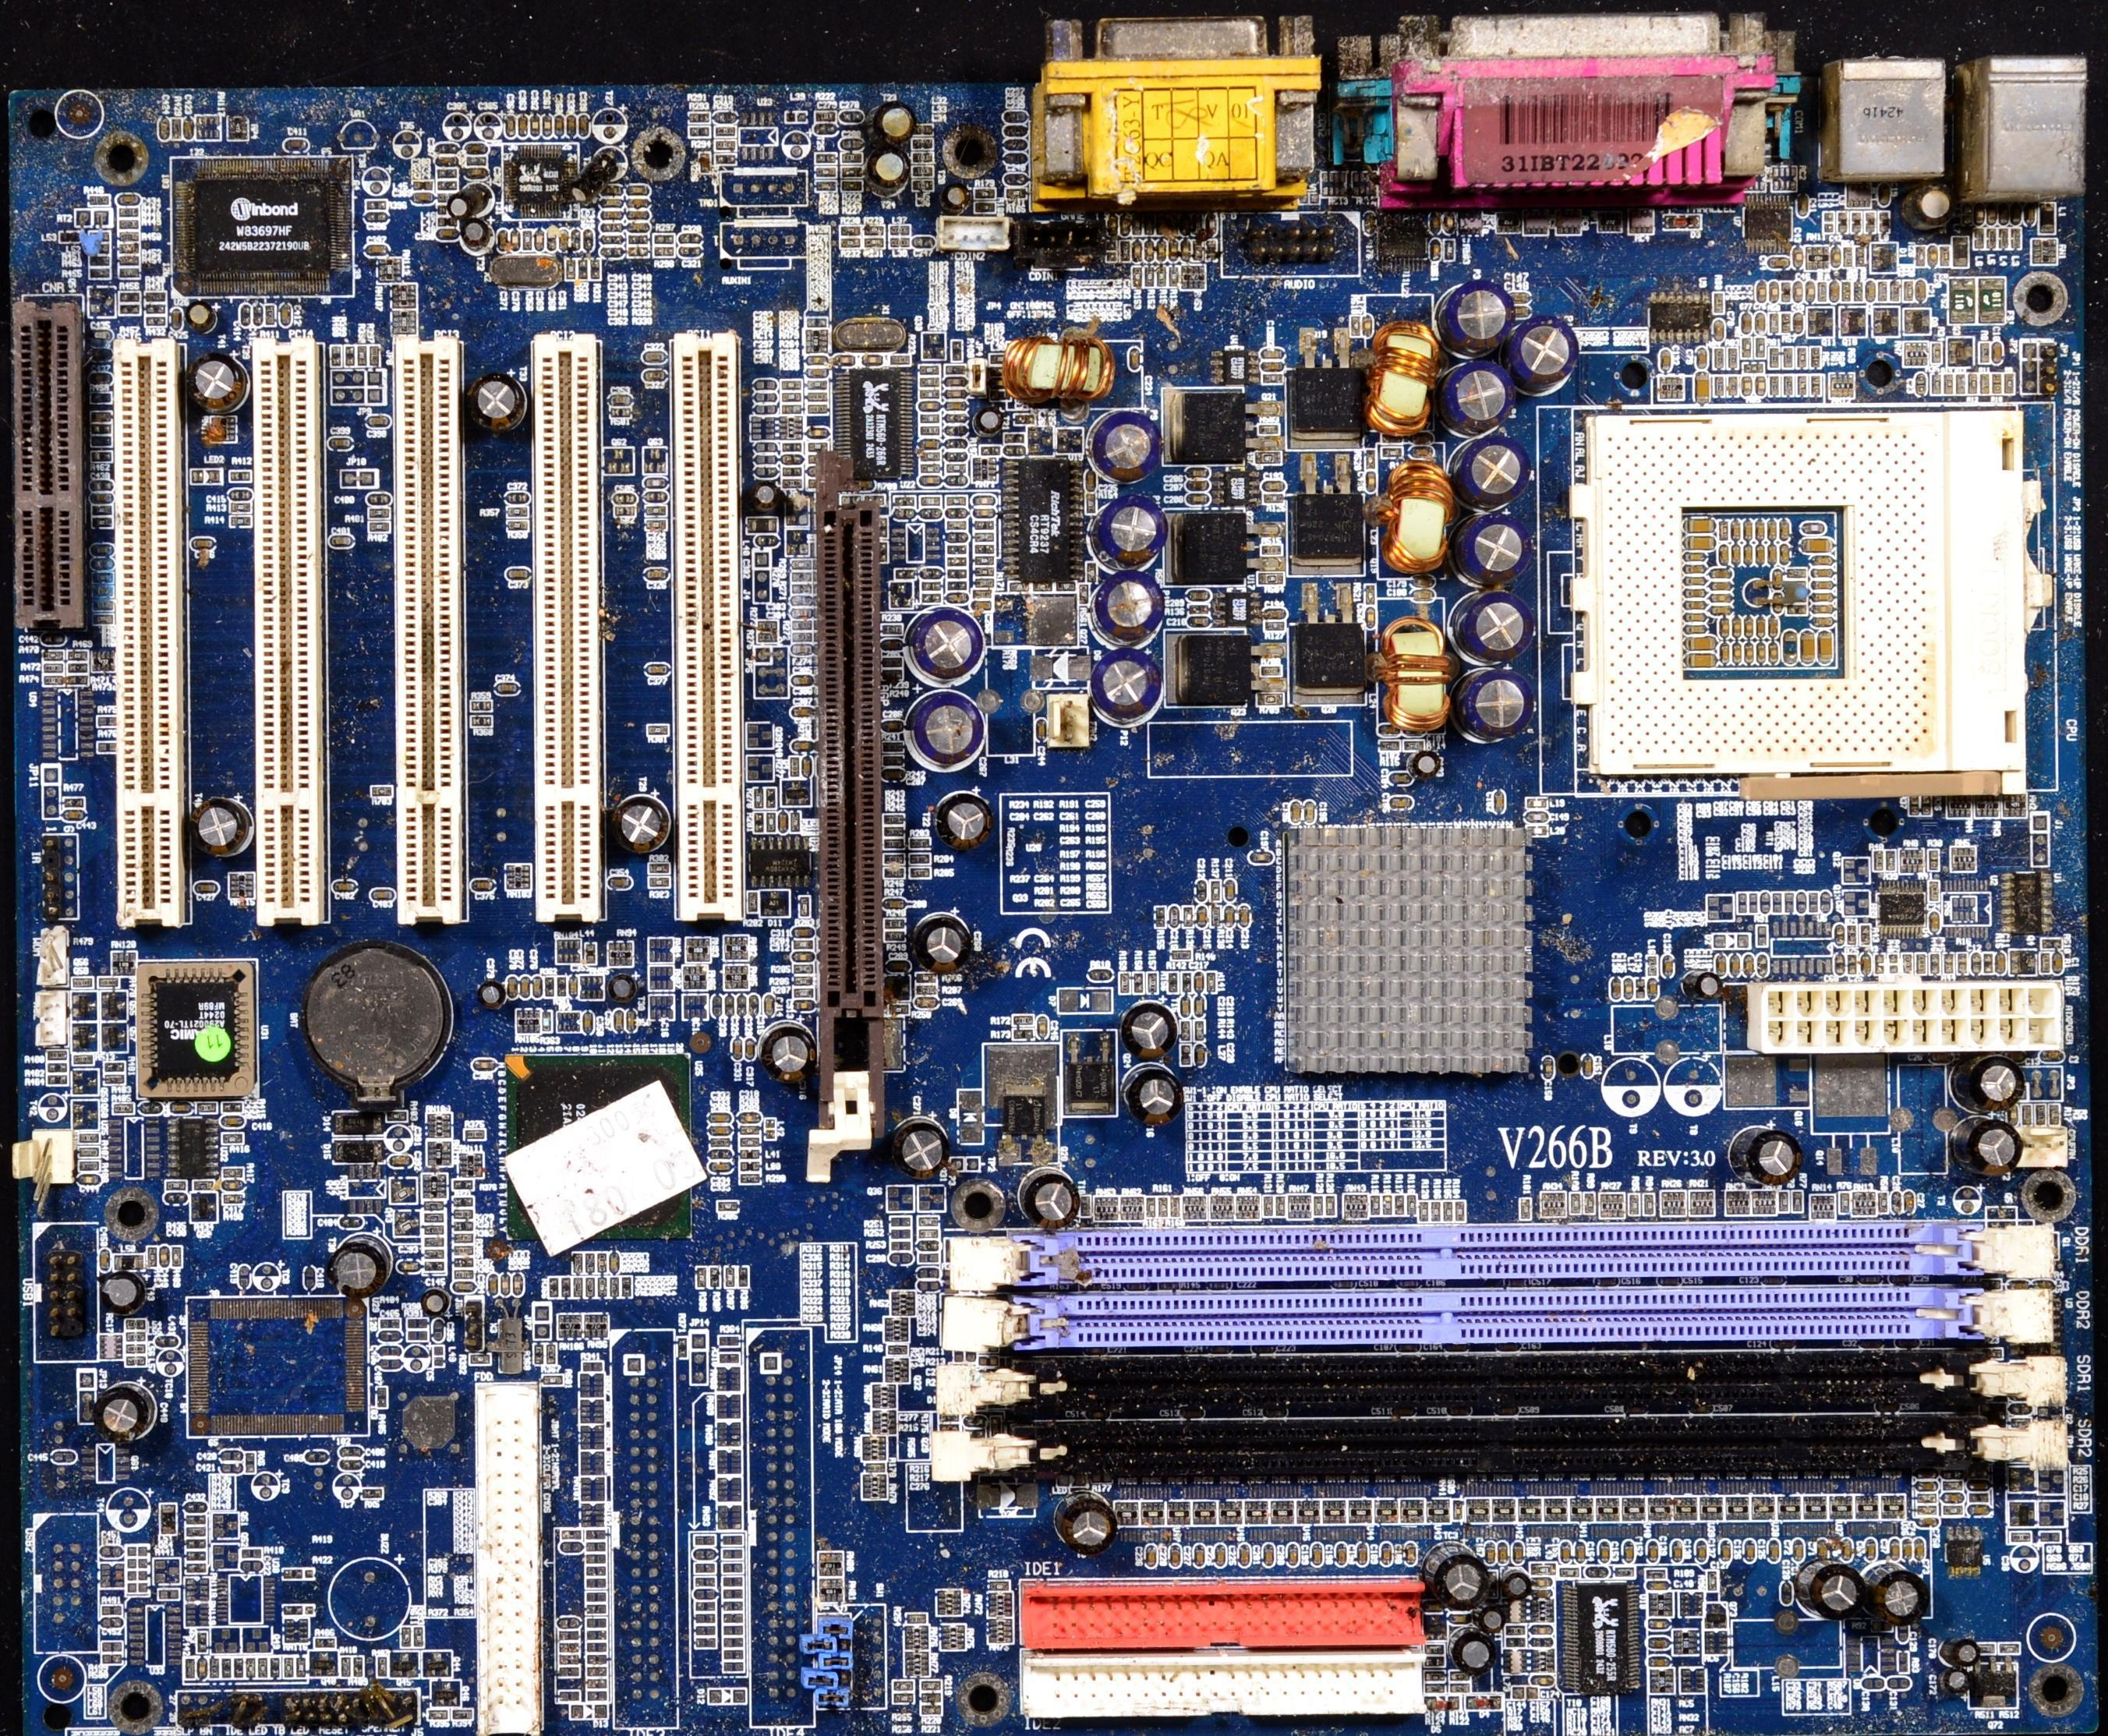Capacitor: (455, 359, 523, 434), (1460, 592, 1535, 656), (911, 610, 978, 685), (932, 793, 1003, 857), (181, 334, 240, 412), (921, 695, 989, 762), (1448, 278, 1511, 351), (1095, 571, 1157, 644), (1088, 417, 1160, 476), (1961, 1051, 2028, 1115), (756, 1023, 822, 1087), (1449, 357, 1508, 428), (610, 786, 667, 853), (1475, 673, 1531, 738), (1968, 1110, 2021, 1179), (193, 794, 257, 851), (1119, 1069, 1186, 1126), (1460, 440, 1520, 501), (1121, 1000, 1179, 1062), (1741, 1124, 1803, 1180), (1056, 1497, 1119, 1554), (1431, 1555, 1492, 1610), (1807, 1562, 1865, 1617), (1518, 326, 1576, 380), (1875, 1576, 1936, 1625), (1470, 525, 1526, 575), (896, 1125, 948, 1178), (1031, 1176, 1080, 1227), (339, 1246, 388, 1290), (96, 1390, 146, 1432), (101, 1273, 145, 1313), (1457, 1639, 1491, 1673), (183, 295, 213, 332), (1501, 1567, 1534, 1594), (462, 218, 496, 247), (569, 179, 597, 210), (611, 972, 636, 1005), (477, 977, 502, 1010), (444, 195, 473, 217), (1402, 1536, 1420, 1566), (1959, 1633, 1977, 1660), (421, 1293, 440, 1317), (610, 1008, 626, 1034), (365, 241, 390, 259), (218, 1114, 246, 1130), (1286, 1540, 1300, 1568), (1481, 1608, 1501, 1632), (300, 1450, 330, 1465), (1569, 1543, 1588, 1564), (1947, 1671, 1968, 1690), (164, 1102, 193, 1117), (469, 876, 494, 893), (331, 880, 355, 896), (504, 976, 519, 1001), (1211, 1542, 1226, 1567), (409, 191, 439, 203), (791, 642, 816, 657), (912, 995, 939, 1010), (1193, 995, 1207, 1021), (1234, 1544, 1249, 1570), (278, 301, 292, 327), (974, 506, 996, 522), (1222, 904, 1236, 930), (530, 974, 545, 999), (736, 992, 747, 1020), (580, 1009, 594, 1034), (730, 1038, 744, 1062), (121, 1546, 150, 1558), (1532, 1672, 1556, 1685), (533, 226, 546, 254), (860, 352, 885, 366), (805, 354, 829, 367), (628, 196, 650, 211), (723, 993, 736, 1018), (748, 993, 760, 1019), (1036, 1013, 1049, 1040), (1335, 1540, 1348, 1566), (97, 1648, 123, 1660), (1194, 906, 1208, 929), (566, 974, 579, 997), (1193, 1044, 1207, 1066), (508, 228, 522, 252), (831, 353, 855, 367), (1597, 1543, 1613, 1562), (710, 993, 723, 1017), (709, 1123, 734, 1134), (678, 232, 702, 245), (943, 387, 968, 398), (943, 400, 968, 412), (790, 595, 815, 607), (790, 606, 815, 618), (1238, 907, 1252, 927), (1967, 1500, 1987, 1513), (1916, 1537, 1926, 1564), (1261, 1543, 1275, 1565), (1647, 1637, 1669, 1649), (602, 209, 624, 222), (791, 673, 812, 686), (1223, 879, 1236, 901), (518, 974, 530, 998), (1622, 1539, 1634, 1561), (104, 1639, 129, 1651), (679, 245, 702, 257), (806, 426, 828, 439), (218, 1452, 251, 1461), (1646, 1618, 1672, 1628), (941, 376, 967, 387), (778, 811, 790, 832), (1670, 1543, 1684, 1562), (373, 890, 394, 903), (791, 951, 815, 961), (1194, 970, 1205, 994), (794, 999, 815, 1012), (625, 1007, 638, 1029), (128, 1582, 149, 1594), (1531, 1624, 1554, 1635), (599, 198, 624, 208), (805, 366, 827, 379), (919, 401, 941, 413), (971, 495, 996, 505), (792, 741, 812, 752), (115, 196, 141, 205), (1180, 995, 1191, 1018), (543, 115, 553, 136), (577, 115, 586, 138), (626, 210, 649, 221), (919, 476, 943, 486), (501, 1275, 513, 1292), (1148, 1542, 1157, 1568), (1699, 377, 1709, 403), (744, 1038, 755, 1059), (530, 115, 540, 136), (1379, 1543, 1391, 1565), (626, 184, 649, 195), (1820, 637, 1830, 658), (793, 706, 814, 718), (801, 757, 813, 778), (1268, 606, 1285, 619), (1692, 638, 1711, 649), (160, 1247, 169, 1268), (1195, 1545, 1207, 1564), (1689, 520, 1708, 530), (1904, 1538, 1912, 1561), (1360, 1543, 1367, 1571), (1920, 1483, 1936, 1496), (1795, 199, 1806, 216), (891, 962, 912, 972), (741, 1123, 759, 1134), (518, 115, 526, 136), (553, 115, 562, 136), (1889, 1539, 1898, 1559), (706, 1114, 730, 1123), (338, 1448, 362, 1456), (1865, 1540, 1878, 1552), (843, 112, 861, 122), (505, 117, 515, 136), (921, 440, 939, 449), (949, 532, 965, 542), (882, 720, 898, 730), (1172, 1544, 1179, 1566), (1293, 804, 1300, 822), (1759, 960, 1768, 977), (715, 114, 731, 123), (434, 1324, 443, 1340), (102, 1620, 118, 1629), (1192, 467, 1209, 476), (1365, 475, 1374, 492), (1803, 638, 1812, 654), (741, 1114, 761, 1121), (58, 1454, 73, 1464), (1699, 1543, 1708, 1558), (885, 641, 899, 652), (1893, 1196, 1901, 1211), (341, 1462, 358, 1470), (232, 491, 249, 500), (1803, 539, 1820, 547), (1695, 655, 1711, 663), (1390, 771, 1406, 781), (1615, 975, 1622, 995), (128, 1574, 147, 1581), (454, 1282, 477, 1289), (1391, 797, 1405, 805), (797, 929, 815, 936), (1839, 925, 1846, 944), (918, 1241, 937, 1247), (382, 1331, 395, 1338), (840, 138, 858, 145), (1562, 1543, 1571, 1557), (1744, 1543, 1753, 1558), (1767, 1544, 1775, 1558), (101, 1547, 115, 1556), (1866, 1680, 1881, 1688), (585, 231, 592, 248), (1915, 281, 1923, 297), (1795, 315, 1802, 333), (1661, 353, 1668, 370), (759, 380, 773, 389), (759, 444, 774, 451), (780, 457, 798, 463), (757, 467, 771, 476), (1264, 481, 1281, 489), (923, 572, 939, 578), (1304, 804, 1312, 819), (1196, 884, 1202, 899), (1862, 960, 1868, 975), (476, 1062, 493, 1070), (223, 1466, 239, 1471), (1649, 1541, 1657, 1557), (370, 214, 384, 221), (1698, 350, 1705, 366), (947, 415, 963, 422), (369, 419, 384, 427), (1693, 542, 1708, 549), (1995, 956, 2004, 968), (1837, 957, 1845, 969), (1932, 250, 1940, 263), (334, 536, 347, 544), (1730, 621, 1738, 634), (1629, 981, 1633, 999), (1997, 345, 2004, 363), (1930, 913, 1936, 927), (394, 1159, 408, 1166), (816, 125, 830, 132), (921, 1283, 936, 1290), (1839, 1543, 1846, 1557), (1891, 1681, 1905, 1689), (571, 232, 578, 247), (1793, 254, 1800, 267), (1772, 259, 1785, 266), (1268, 351, 1282, 358), (756, 395, 770, 402), (897, 510, 913, 516), (1414, 592, 1428, 598), (1734, 646, 1740, 659), (1257, 853, 1268, 861), (1720, 955, 1724, 974), (185, 119, 191, 136), (1650, 1581, 1668, 1586), (547, 229, 554, 246), (336, 437, 345, 446), (1367, 610, 1372, 626), (1906, 1194, 1913, 1206), (891, 1255, 903, 1261), (921, 1269, 934, 1275), (1792, 1543, 1800, 1556), (1487, 1541, 1492, 1566), (607, 235, 621, 242), (1769, 285, 1776, 297), (1865, 285, 1872, 297), (1758, 316, 1764, 330), (1721, 524, 1728, 536), (1767, 525, 1774, 538), (1745, 548, 1752, 560), (1769, 645, 1776, 659), (308, 1270, 313, 1285), (287, 143, 303, 149), (1722, 1544, 1728, 1559), (129, 1561, 143, 1567), (371, 496, 387, 501), (1413, 576, 1429, 582), (950, 593, 964, 599), (1169, 910, 1176, 924), (2053, 956, 2059, 970), (1974, 957, 1978, 971), (1732, 960, 1738, 973), (1745, 960, 1751, 973), (102, 1248, 107, 1262), (161, 120, 167, 135), (1512, 1547, 1520, 1558), (200, 1661, 204, 1675), (629, 225, 643, 232), (1833, 252, 1839, 266), (1364, 320, 1371, 331), (1716, 321, 1721, 337), (1186, 497, 1200, 503), (1809, 523, 1822, 529), (193, 539, 207, 545), (1733, 550, 1738, 563), (1687, 576, 1698, 582), (978, 601, 988, 607), (1720, 618, 1725, 632), (1721, 648, 1728, 659), (889, 769, 900, 776), (1663, 956, 1668, 970), (1649, 984, 1655, 995), (716, 1151, 729, 1156), (713, 1162, 725, 1168), (609, 1256, 615, 1269), (405, 1263, 416, 1268), (384, 1361, 395, 1367), (606, 225, 618, 229), (561, 234, 567, 246), (606, 249, 618, 256), (1795, 286, 1801, 298), (1265, 360, 1279, 366), (1735, 523, 1740, 535), (1745, 525, 1751, 537), (1690, 554, 1701, 560), (1817, 582, 1829, 586), (1817, 607, 1830, 613), (1814, 618, 1826, 623), (1745, 621, 1751, 633), (1758, 647, 1763, 659), (242, 1562, 260, 1567), (1747, 377, 1751, 393), (1689, 603, 1705, 607), (1494, 794, 1499, 808), (1529, 814, 1540, 819), (189, 1504, 200, 1509), (1820, 1544, 1825, 1559), (1807, 285, 1813, 296), (1829, 287, 1834, 297), (1759, 378, 1763, 394), (950, 429, 960, 434), (1194, 483, 1205, 488), (927, 511, 937, 516), (231, 517, 242, 522), (1757, 550, 1763, 560), (1715, 594, 1726, 599), (1714, 605, 1725, 610), (1745, 648, 1751, 659), (1531, 1642, 1547, 1646), (630, 238, 644, 242), (947, 453, 961, 458), (1815, 593, 1829, 597), (1770, 618, 1774, 632), (1689, 625, 1703, 629), (384, 1345, 394, 1350), (1540, 1581, 1547, 1586), (1782, 548, 1788, 557), (1720, 551, 1725, 560), (1816, 557, 1825, 561), (1758, 287, 1761, 300), (760, 458, 773, 462), (232, 506, 246, 510), (949, 511, 960, 514), (1770, 549, 1774, 561), (1814, 569, 1826, 573), (1713, 582, 1724, 587), (1689, 589, 1699, 593), (1689, 614, 1699, 618), (1757, 621, 1762, 633), (1009, 446, 1019, 451), (1756, 525, 1760, 535), (633, 246, 642, 250), (762, 407, 771, 412), (1714, 571, 1723, 574), (1743, 318, 1746, 333), (952, 440, 960, 444), (1778, 522, 1781, 535), (1692, 567, 1699, 571)
Connector: (526, 333, 620, 922), (670, 333, 745, 927), (110, 335, 184, 925), (391, 338, 462, 932), (263, 331, 318, 916)
IC: (179, 183, 352, 285), (132, 965, 258, 1091), (999, 458, 1086, 592), (1575, 1588, 1626, 1683), (851, 377, 893, 467), (1007, 1098, 1045, 1137), (2011, 873, 2040, 922), (1947, 1538, 1980, 1574), (1884, 895, 1923, 922), (1656, 304, 1696, 333), (1754, 211, 1788, 241), (759, 852, 802, 875), (1230, 595, 1247, 621), (1228, 473, 1241, 500), (1229, 354, 1241, 378)
Resistor: (160, 1501, 178, 1537), (577, 1372, 602, 1395), (542, 1009, 555, 1037), (914, 972, 940, 985), (1208, 877, 1222, 901), (1154, 905, 1168, 929), (224, 1101, 249, 1115), (917, 387, 942, 401), (918, 450, 945, 462), (790, 557, 815, 570), (915, 375, 942, 387), (791, 583, 817, 596), (884, 867, 907, 880), (797, 894, 811, 917), (1133, 971, 1146, 995), (919, 424, 942, 438), (881, 621, 903, 636), (1118, 972, 1131, 995), (522, 228, 535, 254), (652, 245, 677, 258), (916, 365, 939, 376), (918, 463, 943, 476), (885, 917, 906, 931), (194, 1101, 216, 1115), (910, 837, 933, 848), (882, 837, 906, 849), (882, 853, 906, 865), (653, 233, 677, 245), (805, 380, 829, 391), (781, 391, 803, 403), (791, 570, 814, 583), (918, 495, 943, 506), (884, 813, 906, 826), (765, 811, 777, 832), (747, 890, 759, 915), (1146, 972, 1159, 993), (914, 984, 939, 995), (111, 1103, 133, 1115), (919, 412, 941, 425), (974, 555, 995, 567), (791, 631, 815, 642), (883, 826, 904, 837), (910, 866, 932, 877), (1183, 907, 1194, 928), (791, 939, 815, 950), (791, 963, 814, 973), (946, 463, 968, 474), (945, 496, 968, 506), (974, 567, 996, 577), (780, 378, 801, 390), (43, 1064, 68, 1073), (753, 789, 764, 810), (908, 853, 930, 863), (884, 931, 905, 942), (795, 988, 815, 998), (844, 167, 865, 176), (577, 257, 587, 279), (590, 260, 601, 280), (792, 621, 812, 631), (45, 1076, 67, 1084), (885, 898, 903, 907), (793, 976, 813, 986), (893, 497, 912, 505), (818, 154, 833, 164), (1881, 1192, 1889, 1210), (317, 1639, 334, 1646), (923, 1707, 944, 1714), (1258, 575, 1279, 583), (170, 1249, 179, 1265), (691, 127, 708, 136), (368, 198, 384, 206), (1261, 453, 1277, 461), (1265, 543, 1281, 552), (102, 1607, 122, 1614), (1259, 697, 1279, 704), (721, 154, 734, 164), (430, 1710, 442, 1720), (1169, 974, 1174, 991), (466, 1133, 483, 1139), (690, 114, 707, 122), (1629, 1196, 1636, 1212), (1169, 1199, 1174, 1216), (454, 1244, 470, 1253), (713, 1268, 719, 1284), (380, 1388, 387, 1405), (1900, 1655, 1909, 1670), (896, 1679, 914, 1686), (895, 1695, 912, 1700), (819, 170, 836, 176), (122, 246, 136, 253), (1772, 351, 1779, 368), (1265, 374, 1283, 381), (885, 659, 897, 666), (756, 815, 763, 831), (1173, 950, 1189, 957), (1642, 1196, 1649, 1211), (892, 1217, 907, 1224), (894, 1243, 911, 1250), (426, 1249, 440, 1256), (737, 1266, 745, 1281), (172, 122, 178, 136), (272, 1658, 278, 1674), (921, 1682, 936, 1689), (90, 195, 106, 202), (566, 263, 573, 279), (1981, 347, 1987, 362), (1784, 352, 1791, 367), (1729, 377, 1736, 392), (1367, 452, 1375, 468), (780, 482, 794, 488), (948, 522, 963, 528), (457, 1257, 470, 1264), (365, 1491, 376, 1499), (1011, 1018, 1031, 1024), (1718, 351, 1722, 369), (808, 394, 826, 399), (1181, 1022, 1189, 1037), (427, 1216, 442, 1224), (921, 1257, 935, 1264), (698, 1269, 706, 1282), (380, 1319, 394, 1326), (235, 1659, 241, 1673), (260, 1660, 266, 1674), (120, 209, 134, 216), (122, 270, 136, 277), (122, 305, 136, 312), (1717, 378, 1723, 392), (371, 525, 384, 532), (887, 756, 901, 763), (904, 1614, 922, 1619), (380, 1657, 384, 1674), (248, 1660, 254, 1678), (1756, 336, 1762, 353), (1265, 423, 1276, 433), (1208, 974, 1215, 987), (1013, 1031, 1025, 1038), (1586, 1195, 1593, 1208), (150, 1249, 155, 1261), (458, 1272, 469, 1278), (719, 128, 731, 135), (190, 1517, 203, 1524), (121, 291, 133, 297), (150, 306, 161, 313), (1810, 377, 1817, 389), (1014, 415, 1027, 423), (785, 443, 797, 449), (900, 571, 911, 577), (925, 584, 937, 591), (1183, 974, 1188, 988), (1796, 1194, 1801, 1210), (426, 1237, 441, 1243), (587, 1257, 592, 1272), (717, 140, 733, 146), (918, 1697, 933, 1702), (843, 184, 858, 189), (1351, 320, 1356, 335), (1947, 377, 1952, 392), (925, 595, 939, 601), (1267, 624, 1284, 631), (882, 744, 898, 748), (791, 759, 797, 775), (1196, 1021, 1201, 1035), (391, 1112, 402, 1119), (1842, 1195, 1848, 1209), (1573, 1197, 1579, 1211), (1327, 1197, 1332, 1211), (1265, 1199, 1272, 1212), (719, 1204, 730, 1211), (1275, 1200, 1280, 1214), (1524, 1201, 1528, 1215), (458, 1236, 470, 1243), (430, 1264, 444, 1269), (343, 1659, 349, 1673), (1426, 1673, 1440, 1678), (122, 256, 137, 263), (147, 293, 158, 299), (1730, 349, 1735, 363), (1788, 377, 1792, 390), (2003, 377, 2007, 391), (1773, 380, 1779, 394), (808, 405, 822, 409), (784, 406, 799, 412), (780, 468, 795, 475), (950, 546, 963, 551), (978, 579, 987, 585), (885, 671, 898, 677), (1373, 1197, 1378, 1209), (429, 1203, 442, 1207), (1446, 1204, 1451, 1216), (455, 1210, 468, 1214), (922, 1230, 935, 1235), (1509, 1641, 1521, 1646), (210, 1660, 216, 1674), (455, 1711, 467, 1717), (1798, 353, 1804, 366), (1812, 353, 1817, 366), (1798, 377, 1803, 388), (1005, 432, 1017, 438), (373, 511, 386, 517), (978, 536, 990, 541), (976, 546, 987, 551), (950, 569, 963, 575), (950, 582, 964, 587), (1421, 1204, 1426, 1221), (1744, 336, 1748, 353), (979, 522, 988, 528), (768, 790, 772, 806), (1395, 1197, 1399, 1212), (1385, 1197, 1389, 1213), (1433, 1204, 1435, 1220), (922, 1220, 933, 1225), (599, 1256, 604, 1267), (575, 1256, 580, 1271), (844, 155, 854, 161), (200, 1635, 204, 1646), (355, 1657, 359, 1673), (284, 1660, 289, 1672), (187, 1659, 190, 1674), (1449, 1684, 1466, 1688), (146, 318, 161, 322), (1974, 377, 1976, 391), (950, 558, 959, 563), (716, 1140, 730, 1144), (456, 1199, 469, 1203), (1782, 1194, 1786, 1207), (1147, 1200, 1151, 1214), (186, 1531, 200, 1535), (1424, 1659, 1437, 1663), (298, 1659, 301, 1673), (1450, 1673, 1463, 1676), (122, 221, 134, 226), (1993, 377, 1997, 391), (455, 1179, 465, 1184), (122, 235, 132, 239), (820, 115, 832, 118), (1159, 1198, 1162, 1211), (1318, 1200, 1322, 1212), (1457, 1204, 1460, 1216), (458, 1221, 469, 1225), (428, 1228, 439, 1232), (415, 1631, 418, 1642), (405, 1632, 409, 1645), (1427, 1683, 1439, 1688), (1409, 1199, 1413, 1210), (893, 1232, 904, 1235), (727, 1269, 730, 1280), (408, 1321, 419, 1325), (410, 1335, 421, 1339), (191, 1563, 201, 1567), (1511, 1627, 1522, 1632), (1430, 1646, 1441, 1651), (225, 1660, 228, 1672), (190, 1541, 200, 1546), (190, 1552, 200, 1556), (1985, 377, 1987, 391), (1958, 379, 1961, 393), (819, 182, 826, 185), (975, 592, 988, 595), (741, 1141, 752, 1144), (1936, 377, 1937, 391)
Transistor: (1184, 397, 1230, 452), (1307, 375, 1356, 425), (1310, 497, 1352, 553), (1186, 517, 1231, 564), (1189, 637, 1232, 688), (1303, 635, 1346, 681), (1978, 1665, 2016, 1706), (72, 1019, 98, 1054), (73, 1098, 97, 1133), (100, 992, 128, 1022), (99, 1020, 126, 1051), (72, 1071, 100, 1098), (73, 994, 95, 1014), (1949, 342, 1968, 362), (311, 1653, 330, 1673), (2014, 953, 2032, 972), (1880, 246, 1895, 270), (1903, 313, 1921, 331), (394, 1656, 409, 1676), (789, 784, 806, 802), (1705, 1606, 1724, 1621), (430, 1656, 444, 1674), (1844, 311, 1859, 331), (1874, 313, 1890, 330), (1431, 1617, 1443, 1636), (437, 1685, 451, 1698), (1815, 313, 1827, 326)
